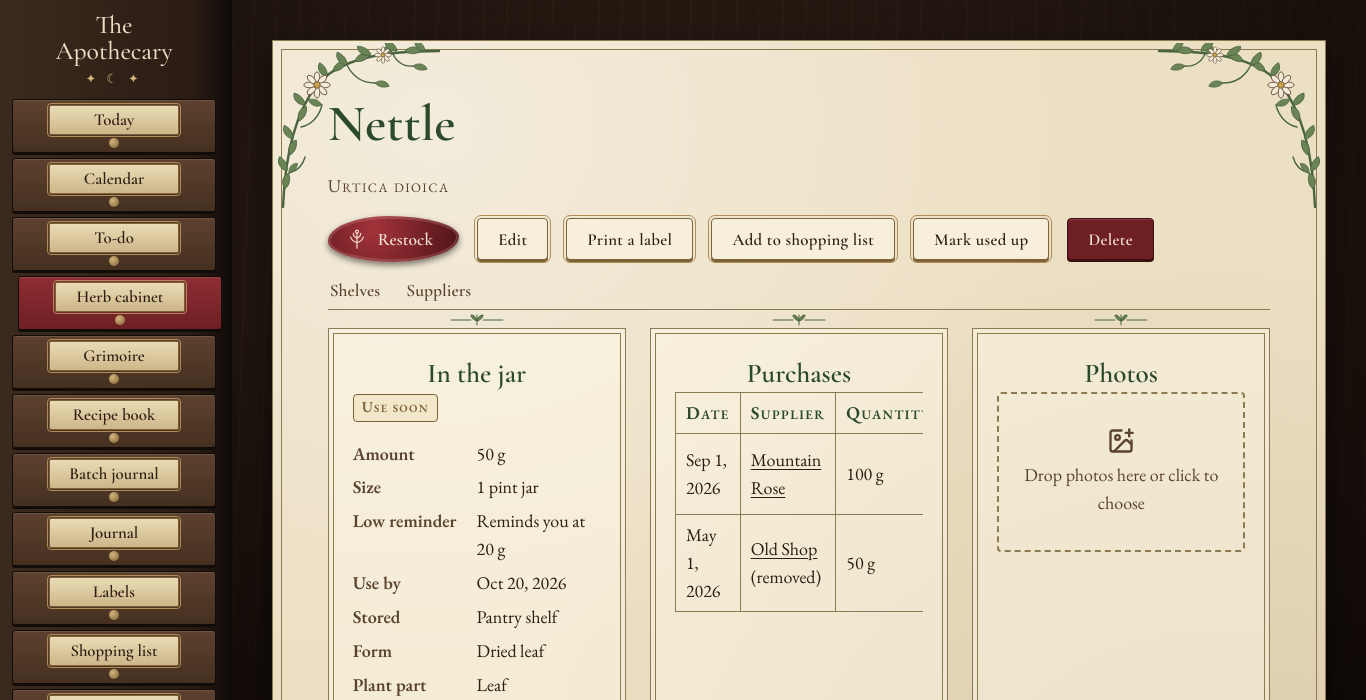
Test case: asks before deleting, then returns to the shelves
Click the button "Delete" at (1111, 239), box [1068, 218, 1154, 260]
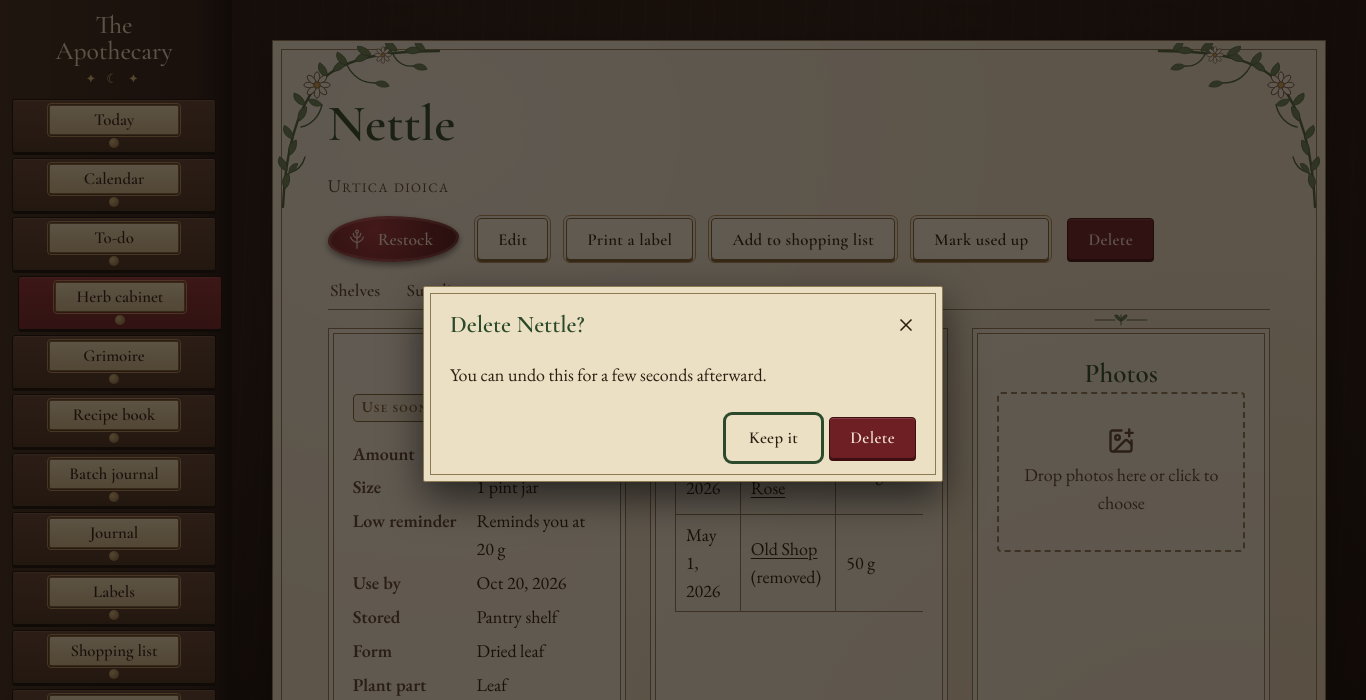
Click the button "Delete" at (873, 438), box [829, 417, 916, 459]
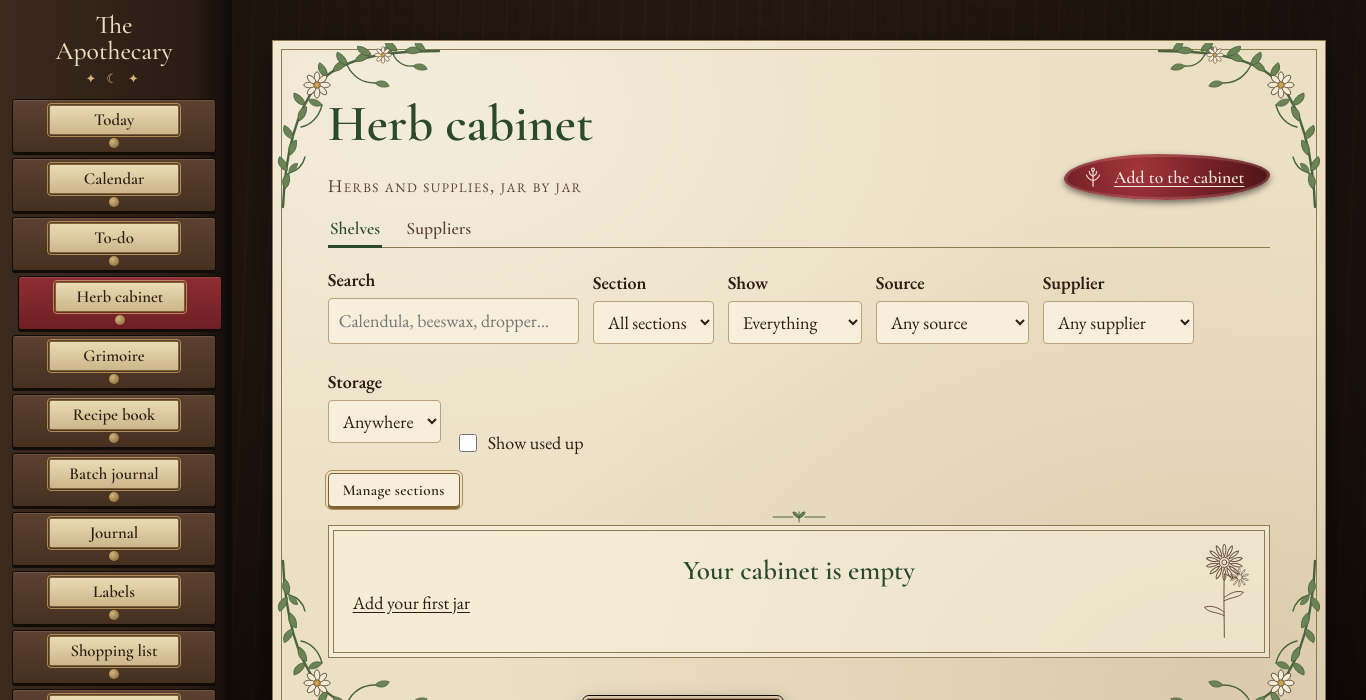
Expected: the heading "Your cabinet is empty" is shown, [683, 554, 915, 587]
